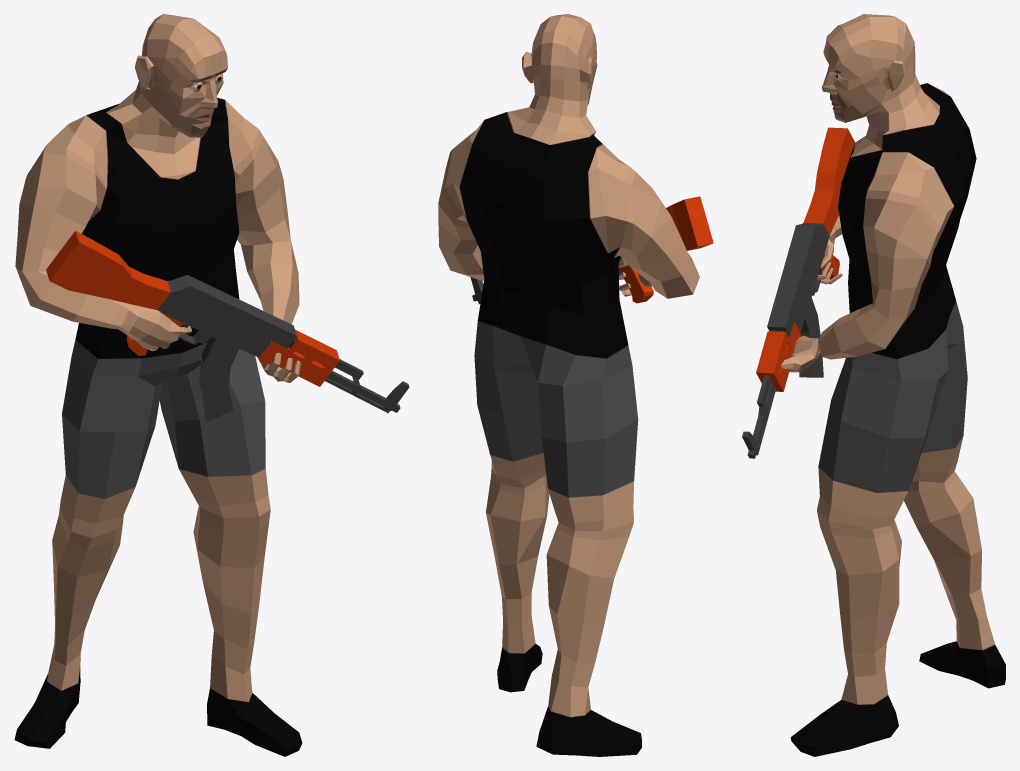
File: PlayerIdle(108).obj
3 renders of one model, left to right at view 1: azimuth 30°, elevation 25°; view 2: azimuth 150°, elevation 25°; view 3: azimuth 270°, elevation 25°, orthographic. The views are drawn at different scales.
Parts seen in each view (by area): view 1: Plane002, Object001; view 2: Plane002, Object001; view 3: Plane002, Object001.
Boxes of the visible parts, x1,y1,x2,y2 form: Plane002: [14, 14, 302, 756]; Object001: [46, 231, 409, 421]; Plane002: [438, 14, 699, 756]; Object001: [470, 196, 713, 304]; Plane002: [781, 14, 1005, 756]; Object001: [742, 127, 854, 458].
Bounding box in the file's own units: 814 × 1803 × 618.
